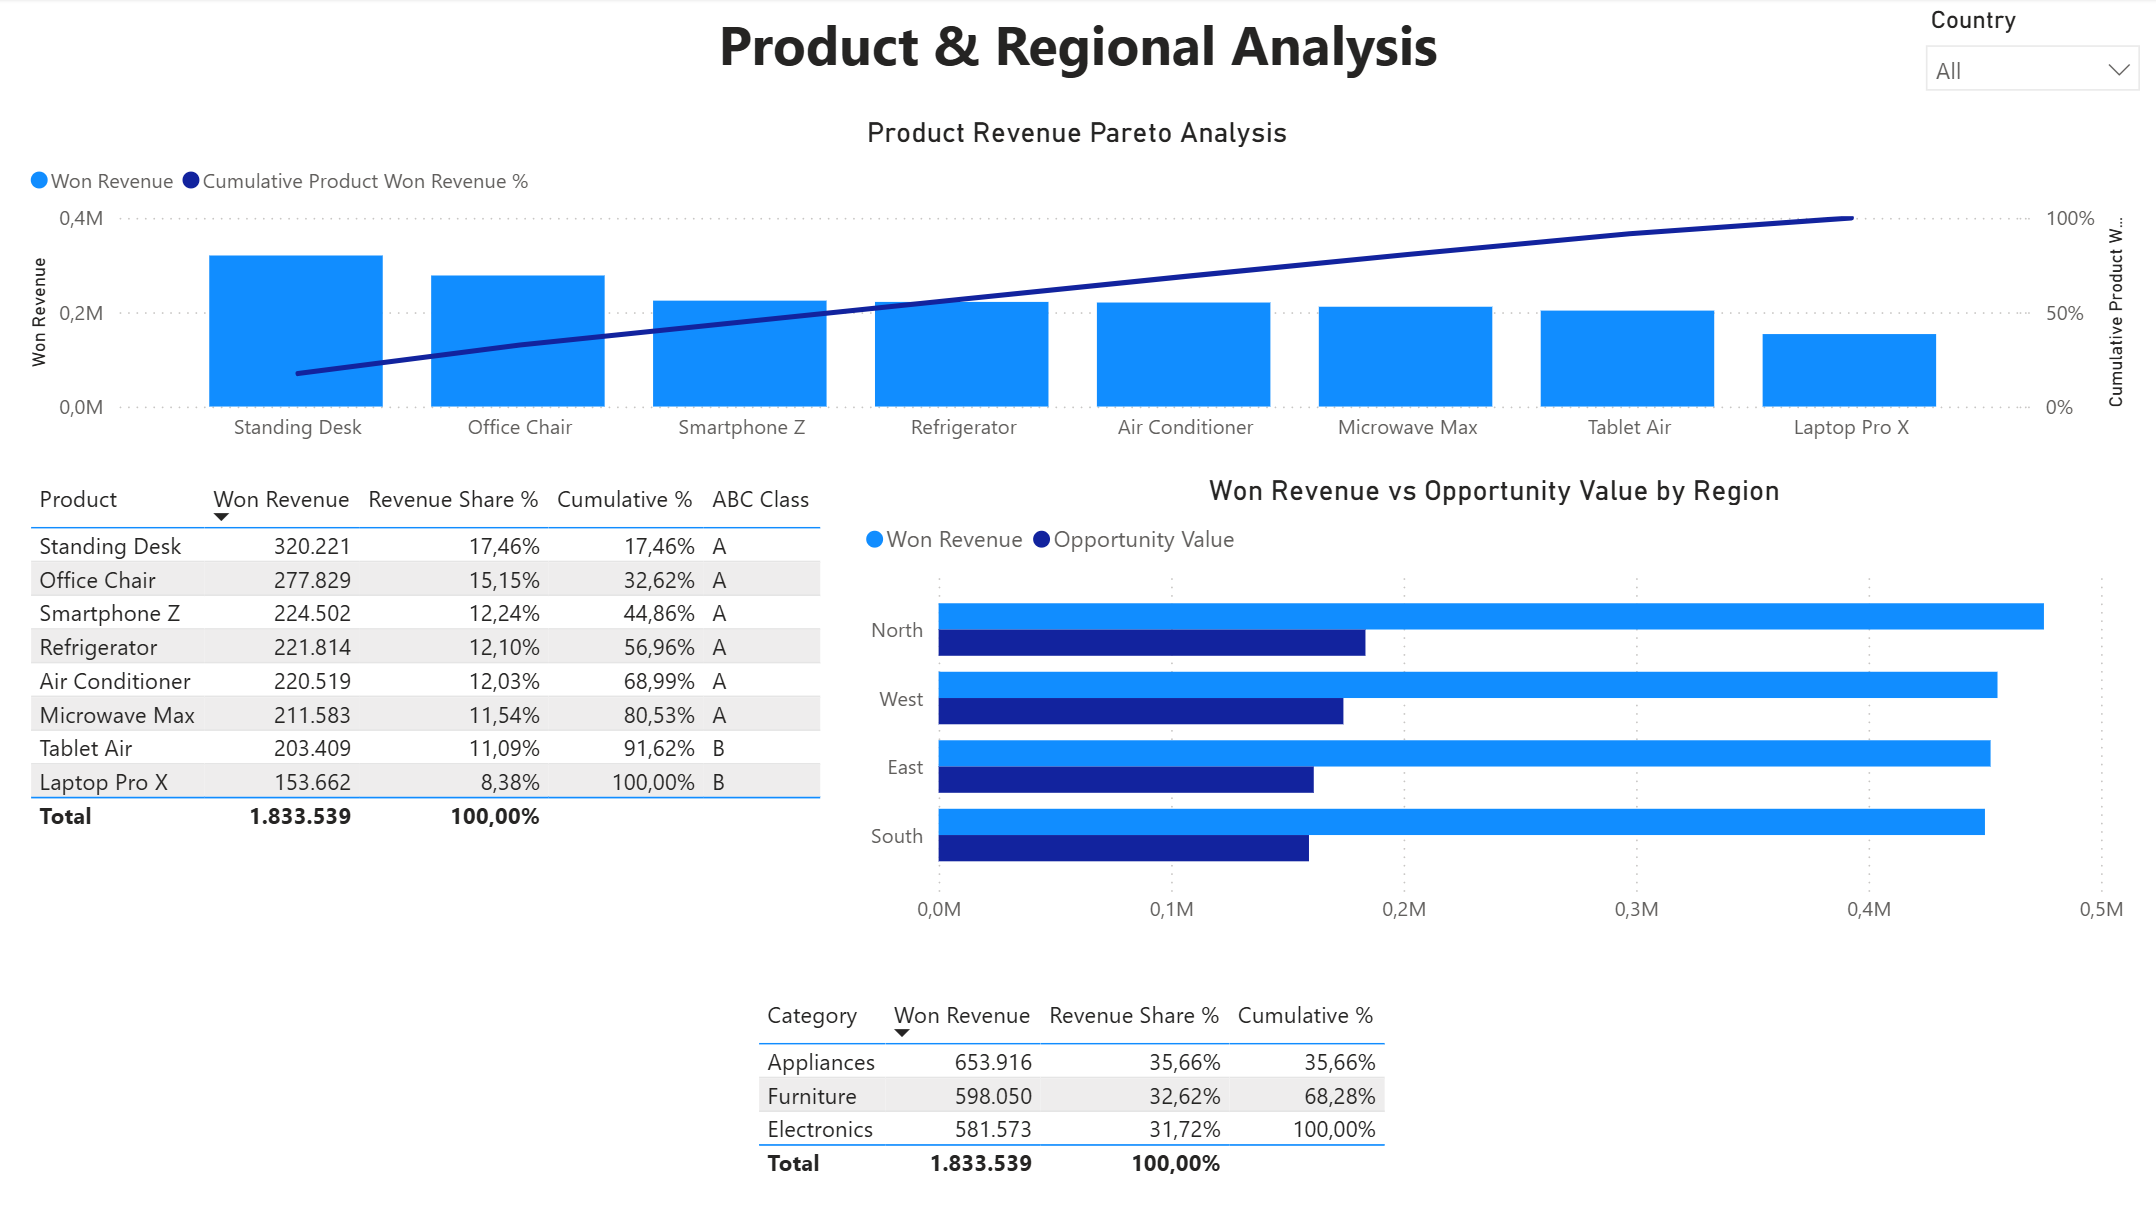

What the dashboard file says about the page in this screenshot:
{"tool":"powerbi","page":{"name":"Product & Regional Analysis","canvas":[1280,720],"ordinal":3},"visuals":[{"type":"tableEx","fields":{"Values":["Raw sales datasets.Product_Category","Raw sales datasets.Won Revenue","Raw sales datasets.Won Revenue Share %","Raw sales datasets.Cumulative Won Revenue %"]},"box":[444.8,587.5,389.3,120.3],"z":0},{"type":"tableEx","fields":{"Values":["Raw sales datasets.Product_Name","Raw sales datasets.Won Revenue","Raw sales datasets.Product Won Revenue Share %","Raw sales datasets.Cumulative Product Won Revenue %","Raw sales datasets.Product ABC Class"]},"box":[13,282,495.5,277.2],"z":1000},{"type":"lineClusteredColumnComboChart","title":"Product Revenue Pareto Analysis","fields":{"Category":["Raw sales datasets.Product_Name"],"Y":["Raw sales datasets.Won Revenue"],"Y2":["Raw sales datasets.Cumulative Product Won Revenue %"]},"box":[13,69.6,1252.9,202.9],"z":2000},{"type":"clusteredBarChart","title":"Won Revenue vs Opportunity Value by Region","fields":{"Category":["Raw sales datasets.Region"],"Y":["Raw sales datasets.Won Revenue","Raw sales datasets.Opportunity Value"]},"box":[508.5,282,757.4,277.2],"z":3000},{"type":"textbox","box":[0,0,1280,69.6],"z":4000},{"type":"slicer","fields":{"Values":["Raw sales datasets.Country"]},"box":[1132.5,0,147.5,64.9],"z":5000}]}

Visuals, with their boxes in screenshot pixels (x1, y1, x2, y2), scaled from the page's 1280x720 canvas onto the 2156x1211 screenshot:
tableEx - Raw sales datasets.Product_Category x Raw sales datasets.Won Revenue: bbox=[749, 988, 1405, 1190]
tableEx - Raw sales datasets.Product_Name x Raw sales datasets.Won Revenue: bbox=[22, 474, 857, 941]
"Product Revenue Pareto Analysis" lineClusteredColumnComboChart: bbox=[22, 117, 2132, 458]
"Won Revenue vs Opportunity Value by Region" clusteredBarChart: bbox=[857, 474, 2132, 941]
textbox: bbox=[0, 0, 2155, 117]
slicer - Raw sales datasets.Country: bbox=[1908, 0, 2155, 109]
